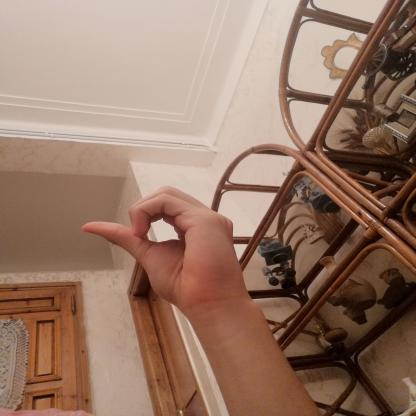WAW: (68, 178, 260, 324)
